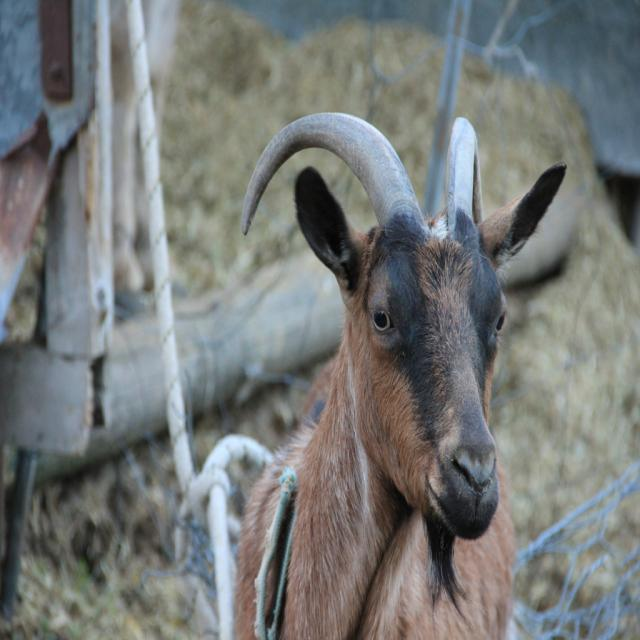Goat: (233, 111, 568, 640)
